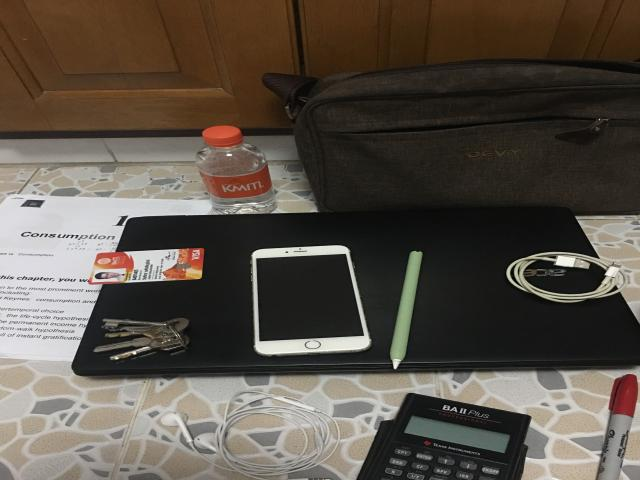Keys: (93, 318, 190, 361)
Mobile phone: (252, 246, 372, 356)
Pen: (597, 374, 638, 480)
bottle: (195, 126, 277, 214)
paper: (0, 195, 212, 365)
wire: (162, 391, 340, 480), (507, 252, 628, 303)
